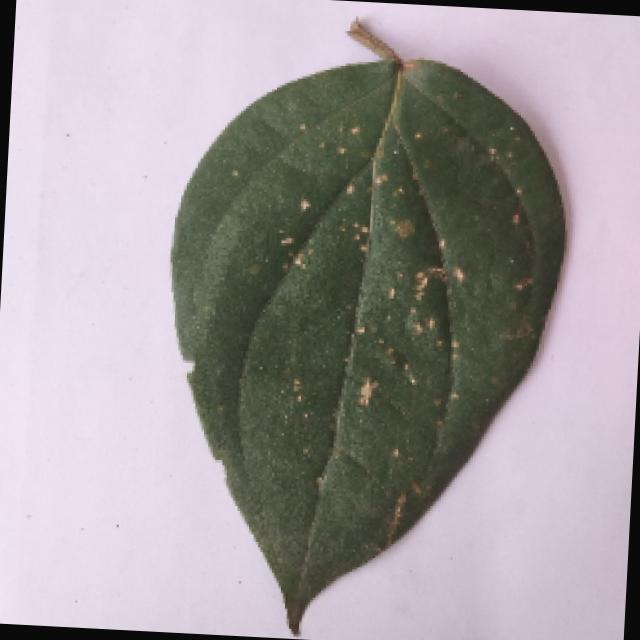pollu-disease: (129, 21, 597, 640)
